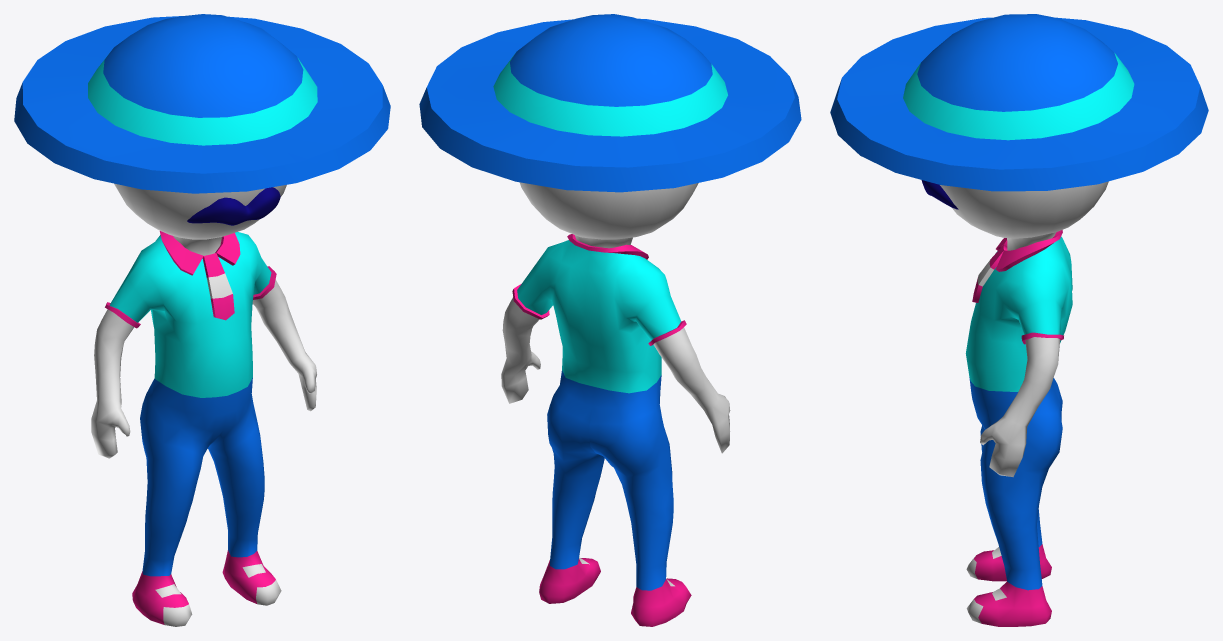
File: mustache_A_pose.fbx
3 renders of one model, left to right at view 1: azimuth 30°, elevation 25°; view 2: azimuth 150°, elevation 25°; view 3: azimuth 270°, elevation 25°, orthographic.
Visible parts, largest first — view 1: mustache_A_pose; view 2: mustache_A_pose; view 3: mustache_A_pose.
Part boxes in pixels (left/top/right/bottom): mustache_A_pose: left=14, top=14, right=390, bottom=626; mustache_A_pose: left=419, top=14, right=801, bottom=626; mustache_A_pose: left=830, top=14, right=1208, bottom=626.
Size of the model in its own units: 117 by 196 by 118.
